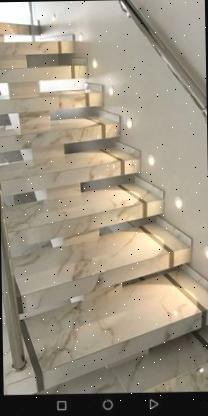stair: (0, 14, 179, 385)
